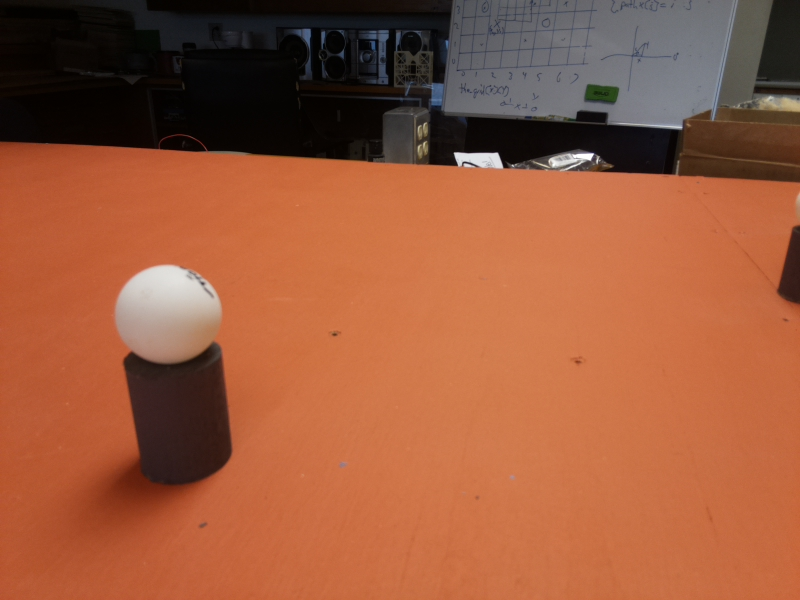obstacle: (117, 263, 232, 485)
